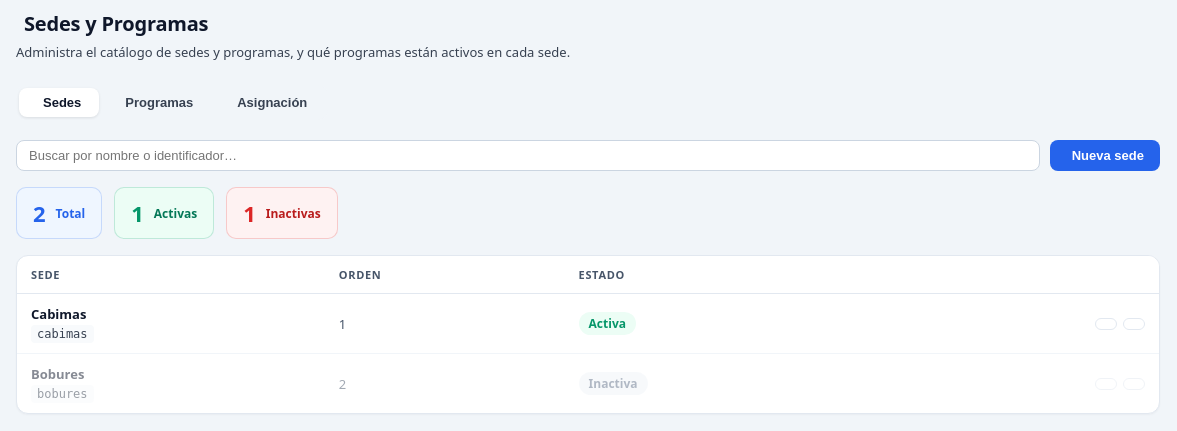
GestionSedes — carga inicial › distingue 'sin coincidencias' de 'sin datos' y permite limpiar la búsqueda
Expected: the text "Cabimas" is shown, [31,305,86,323]
Type "sede que no existe xyz" into the field with placeholder "Buscar por nombre o identificador…". click: (528, 156)
box: [16,140,1040,171]
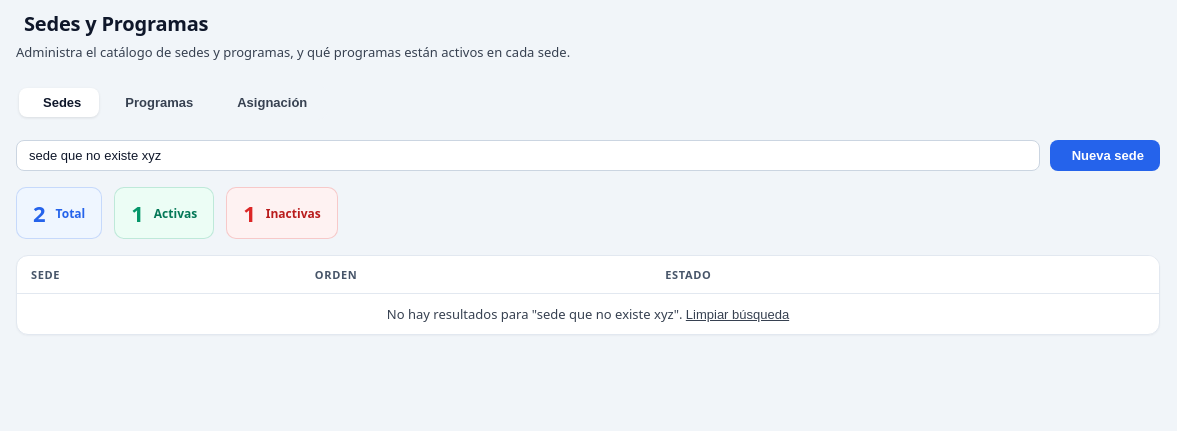
Expected: the text "No hay resultados para" is shown, [387,305,537,323]
Expected: the text "Cabimas" is gone
Click the button "Limpiar búsqueda". click: (738, 314)
box: [686,307,789,322]
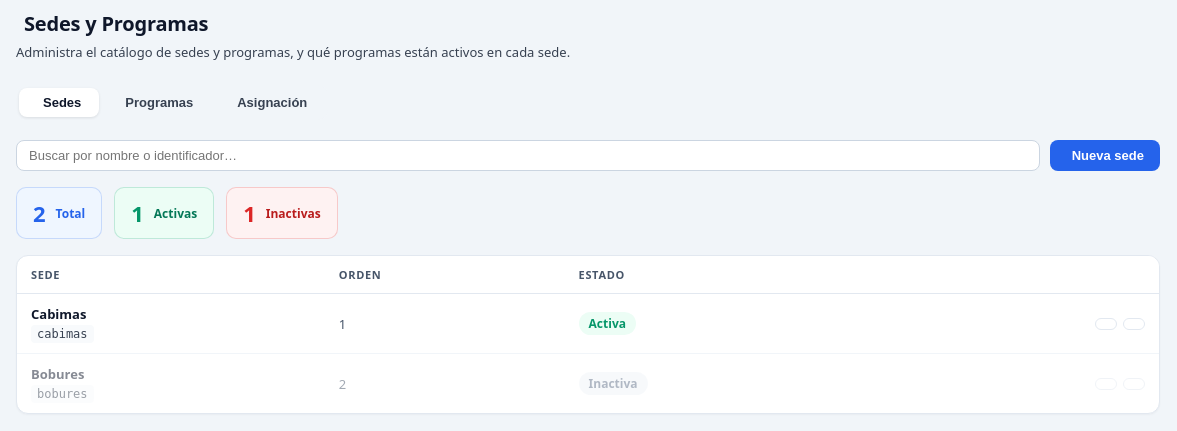
Expected: the field with placeholder "Buscar por nombre o identificador…" is empty, [16,140,1040,171]
Expected: the text "Cabimas" is shown, [31,305,86,323]
